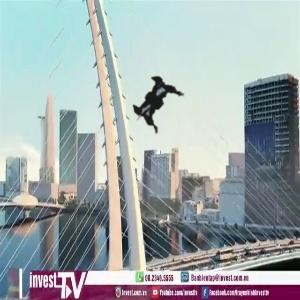drone: (73, 27, 229, 183)
